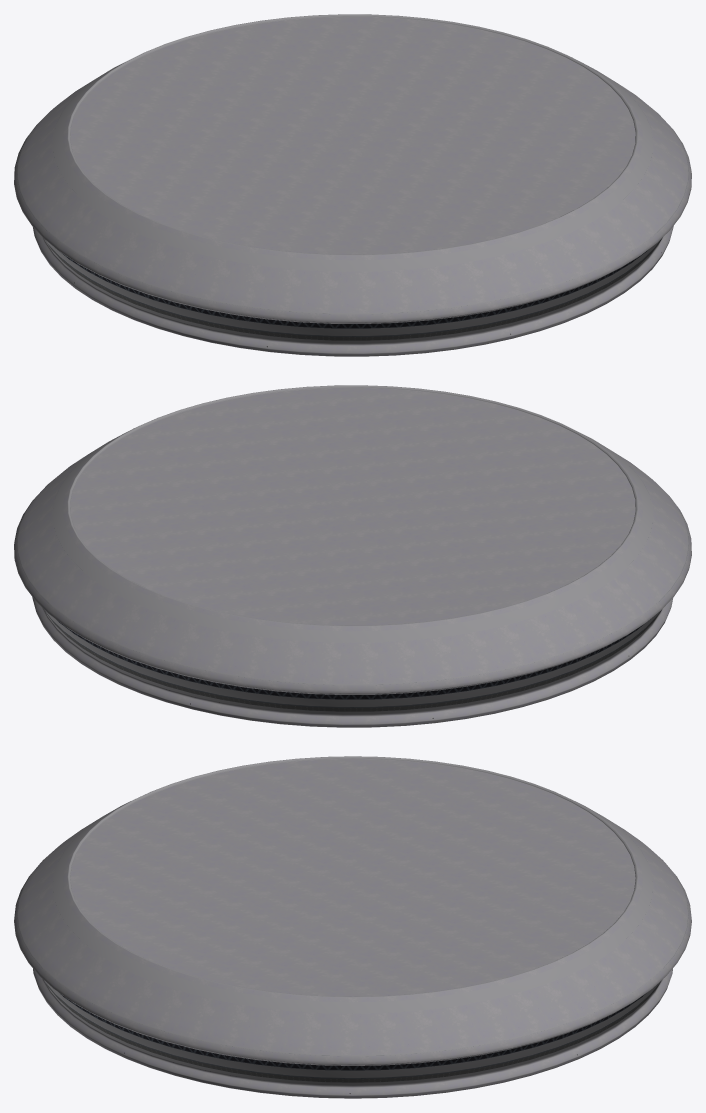
Rendered from SM_Floor07.fbx.
3 renders of one model, top to bottom at view 1: azimuth 30°, elevation 25°; view 2: azimuth 150°, elevation 25°; view 3: azimuth 270°, elevation 25°, orthographic.
Visible parts, largest first — view 1: SM_Floor07_LOD0; view 2: SM_Floor07_LOD0; view 3: SM_Floor07_LOD0.
Boxes of the visible parts, x1,y1,x2,y2 form: SM_Floor07_LOD0: (14, 14, 691, 356); SM_Floor07_LOD0: (14, 385, 691, 727); SM_Floor07_LOD0: (14, 756, 691, 1098).
Size of the model in its own units: 7000 by 7000 by 1000.
2 materials, 2 textured.
